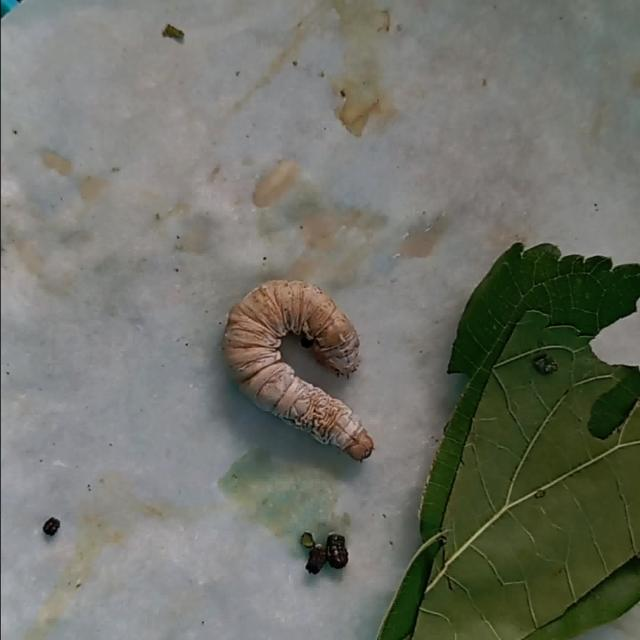Grasserie: (199, 260, 407, 473)
